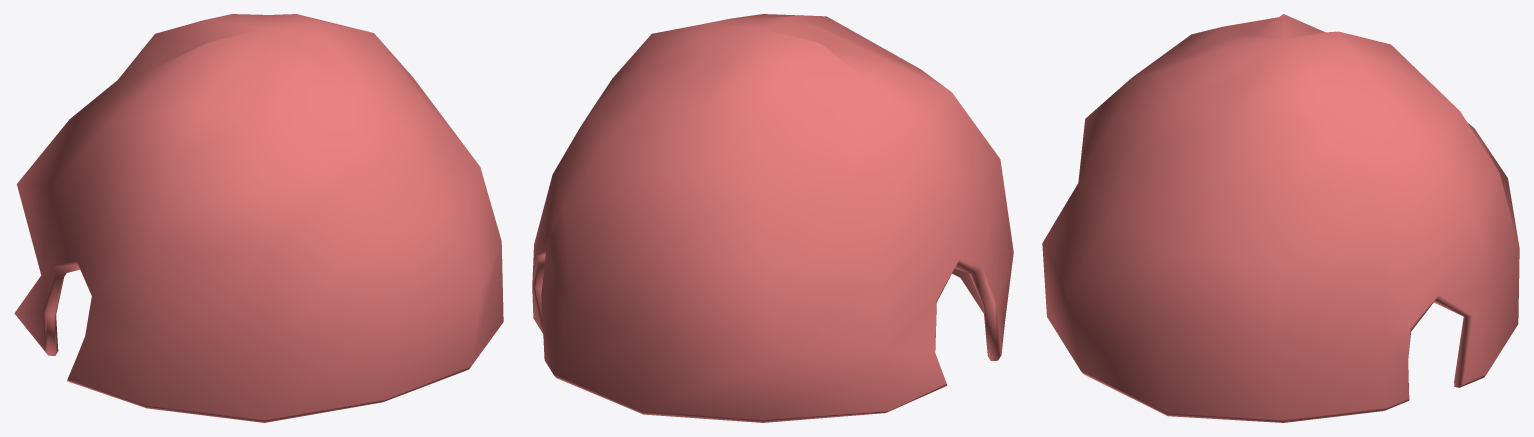
The model's file is MiniCave_mesh.fbx.
The picture shows the model from 3 angles, left to right: view 1: azimuth 30°, elevation 25°; view 2: azimuth 150°, elevation 25°; view 3: azimuth 270°, elevation 25°; orthographic projection. The views are drawn at different scales.
Visible parts, largest first — view 1: MiniCave_mesh; view 2: MiniCave_mesh; view 3: MiniCave_mesh.
Part boxes in pixels (x1=…): MiniCave_mesh: x1=14, y1=14, x2=503, y2=422; MiniCave_mesh: x1=532, y1=14, x2=1013, y2=422; MiniCave_mesh: x1=1042, y1=14, x2=1519, y2=422.
Size of the model in its own units: 17.67 by 11.71 by 17.29.
